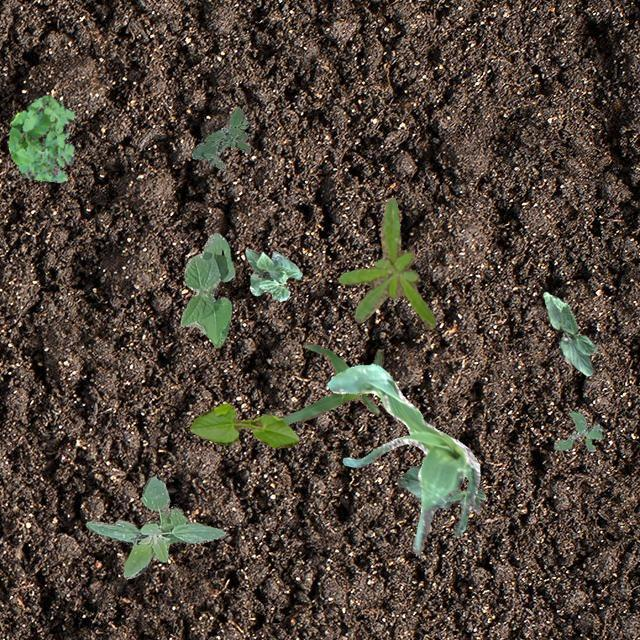crop: (326, 362, 479, 552), (278, 341, 382, 424), (180, 232, 233, 346), (188, 402, 298, 447), (542, 290, 594, 374), (398, 466, 484, 510), (244, 248, 300, 300)
weed: (84, 476, 224, 578), (338, 195, 433, 328), (8, 95, 74, 182), (190, 106, 250, 170), (552, 410, 602, 450)
